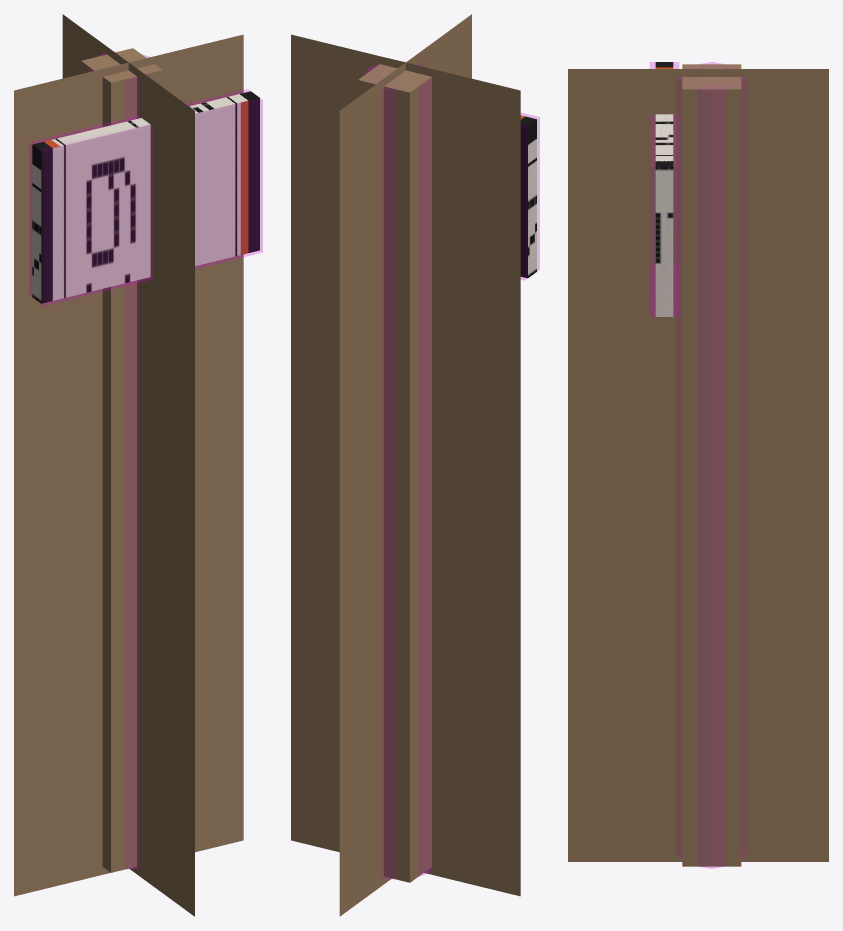
File: milemarker_062.dae
3 renders of one model, left to right at view 1: azimuth 30°, elevation 25°; view 2: azimuth 150°, elevation 25°; view 3: azimuth 270°, elevation 25°, orthographic.
Visible parts, largest first — view 1: milemarker_062_a50, milemarker_062_a800, Colmesh_sign-1, milemarker_062_a200, Colmesh_post-1; view 2: milemarker_062_a50, milemarker_062_a800, Colmesh_post-1, milemarker_062_a200, Colmesh_sign-1; view 3: milemarker_062_a50, milemarker_062_a800, Colmesh_post-1, Colmesh_sign-1.
Boxes of the visible parts, <box> form: milemarker_062_a50: <box>14,14,243,916</box>; milemarker_062_a800: <box>32,48,259,872</box>; Colmesh_sign-1: <box>29,89,262,305</box>; milemarker_062_a200: <box>102,56,159,866</box>; Colmesh_post-1: <box>89,53,148,869</box>; milemarker_062_a50: <box>291,14,520,916</box>; milemarker_062_a800: <box>358,58,536,882</box>; Colmesh_post-1: <box>366,61,431,878</box>; milemarker_062_a200: <box>379,66,431,879</box>; Colmesh_sign-1: <box>521,113,539,280</box>; milemarker_062_a50: <box>568,69,828,861</box>; milemarker_062_a800: <box>655,62,741,866</box>; Colmesh_post-1: <box>677,62,746,868</box>; Colmesh_sign-1: <box>650,62,678,316</box>.
Bounding box in the file's own units: 0.441 × 0.441 × 1.48.
Materials: 3 (1 with a texture image).
